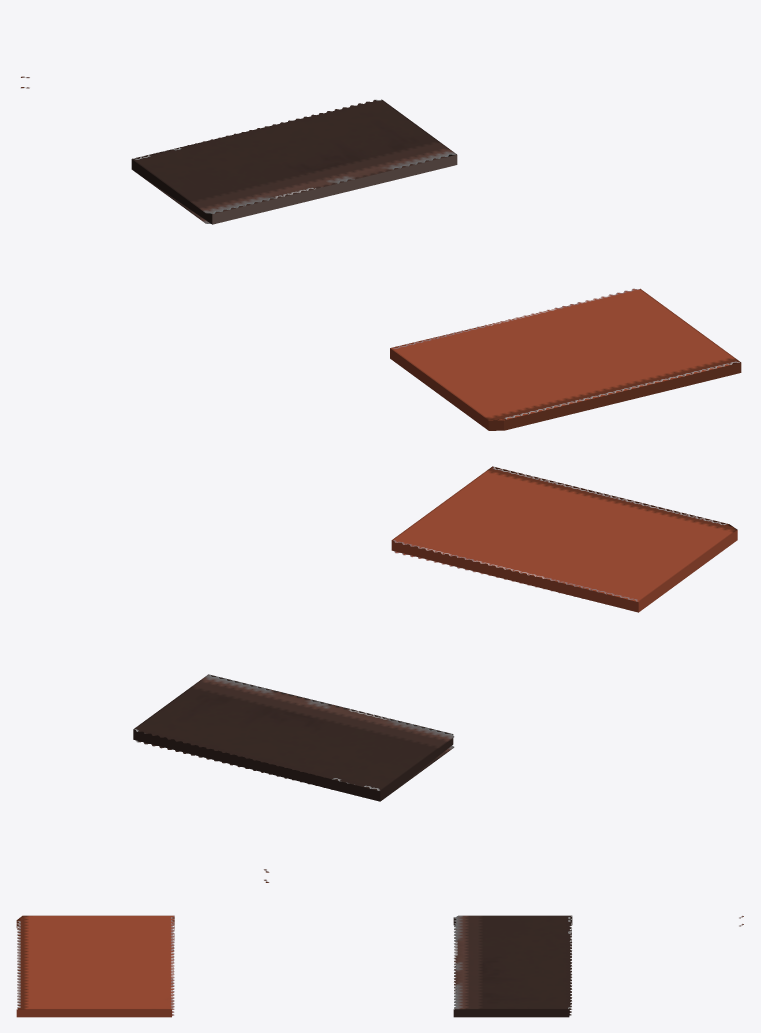
File: pz_native_location_restaurant_seahorse_01_25_frame.obj
3 views of the same model, one above another, from view 1: azimuth 30°, elevation 25°; view 2: azimuth 150°, elevation 25°; view 3: azimuth 270°, elevation 25° (orthographic). The views are drawn at different scales.
Visible parts, largest first — view 1: pz_native_location_restaurant_seahorse_01_25_frame; view 2: pz_native_location_restaurant_seahorse_01_25_frame; view 3: pz_native_location_restaurant_seahorse_01_25_frame.
Part boxes in pixels (x1,y1,x2,y2): pz_native_location_restaurant_seahorse_01_25_frame: (21,76,741,430); pz_native_location_restaurant_seahorse_01_25_frame: (133,466,737,882); pz_native_location_restaurant_seahorse_01_25_frame: (16,915,743,1017).
Bounding box in the file's own units: 1.03 × 0.04 × 3.32.
1 material, 1 textured.
